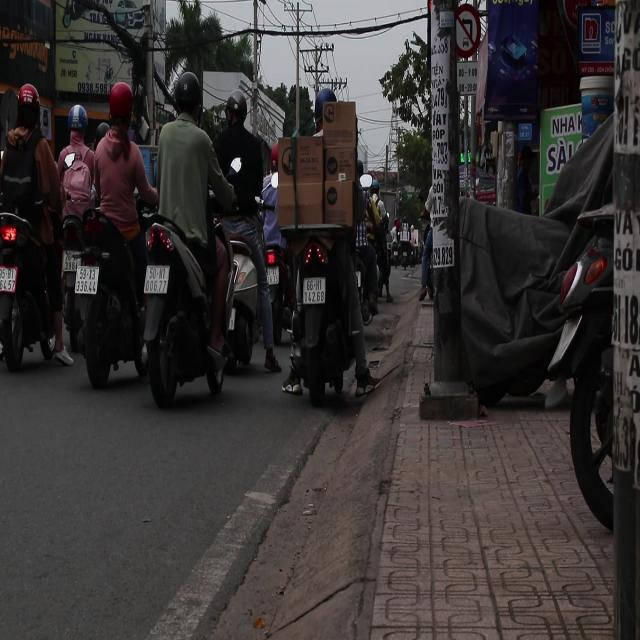motorbike: (541, 169, 640, 555), (141, 207, 229, 407), (282, 226, 378, 407), (0, 201, 72, 375), (72, 215, 144, 382)
